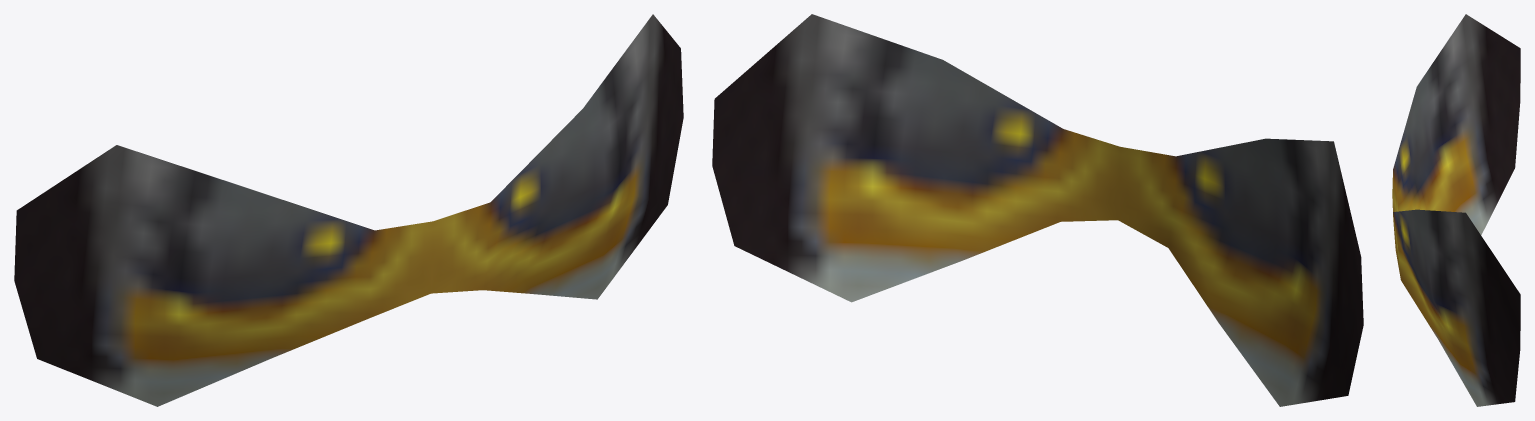
File: gjs_yanjing.FBX
3 renders of one model, left to right at view 1: azimuth 30°, elevation 25°; view 2: azimuth 150°, elevation 25°; view 3: azimuth 270°, elevation 25°, orthographic. The views are drawn at different scales.
Parts seen in each view (by area): view 1: 对象001; view 2: 对象001; view 3: 对象001.
Part boxes in pixels (x1,y1,x2,y2): 对象001: (14,14,683,406); 对象001: (712,14,1363,406); 对象001: (1392,14,1520,406).
Size of the model in its own units: 1077 by 430 by 236.
